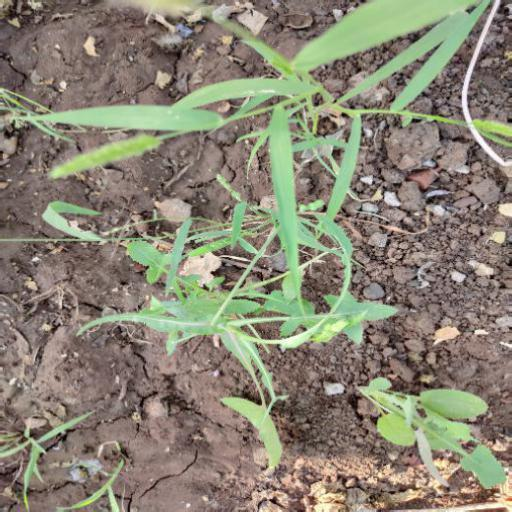weed: (48, 53, 484, 512)
